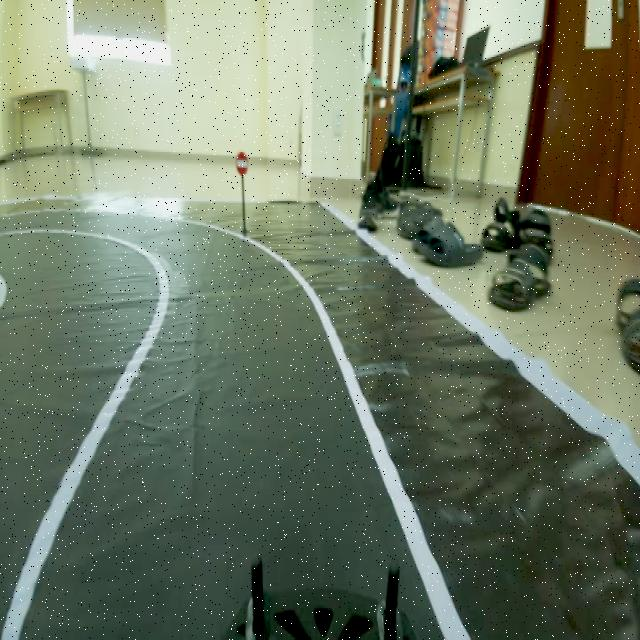no_entry: (232, 148, 248, 178)
